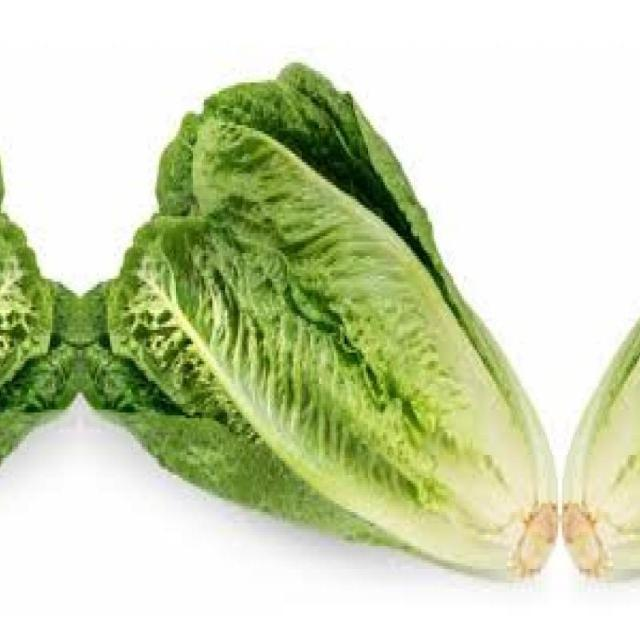healthy: (84, 66, 560, 580), (560, 66, 640, 579), (0, 66, 76, 579)
